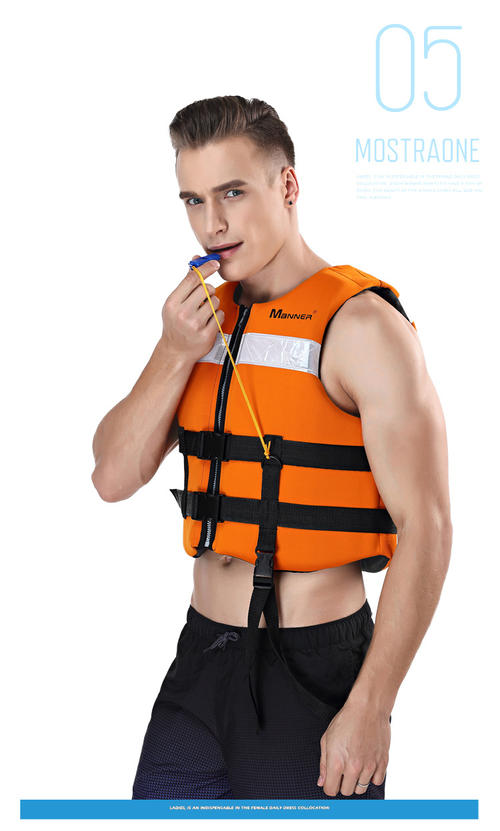reflective_clothes: (164, 235, 419, 632)
